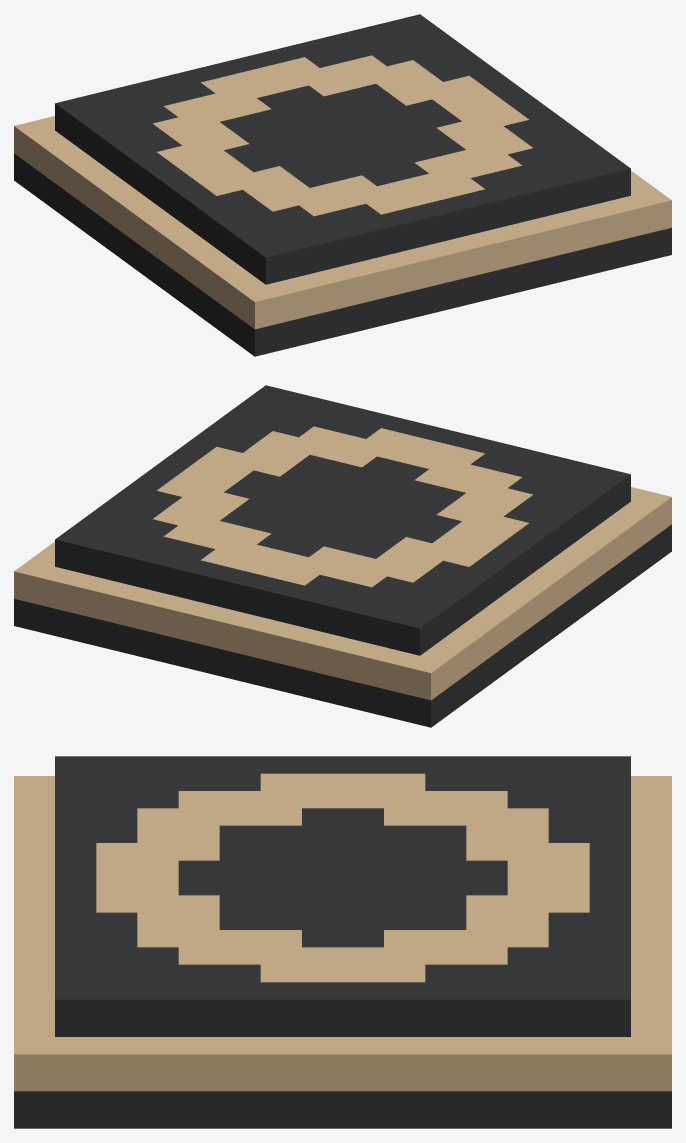
Rendered from o-v3-black-tan.gltf.
3 renders of one model, top to bottom at view 1: azimuth 30°, elevation 25°; view 2: azimuth 150°, elevation 25°; view 3: azimuth 270°, elevation 25°, orthographic. The views are drawn at different scales.
Visible parts, largest first — view 1: Untitled; view 2: Untitled; view 3: Untitled.
Part boxes in pixels (x1,y1,x2,y2): Untitled: (14, 14, 671, 356); Untitled: (14, 385, 671, 727); Untitled: (14, 756, 671, 1128).
Size of the model in its own units: 1.6 by 0.3 by 1.6.
1 material, 1 textured.
